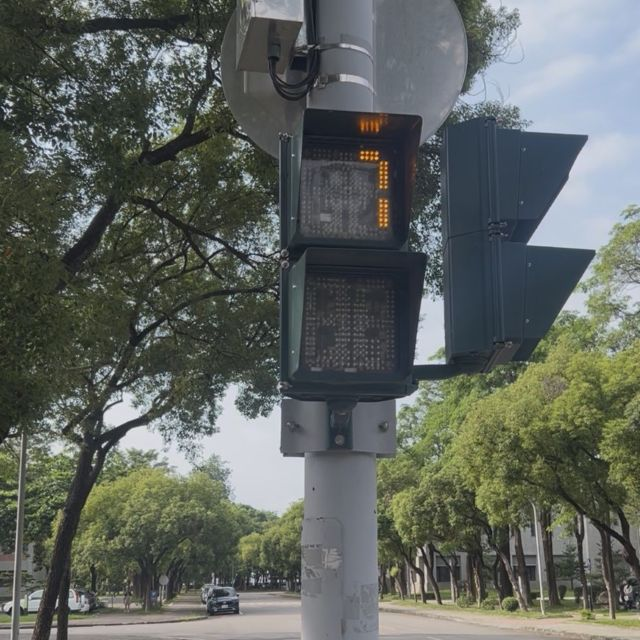green_light: (281, 111, 420, 397)
